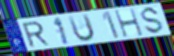1: (52, 16, 72, 45), (102, 10, 121, 40)
H: (113, 8, 145, 39)
R: (21, 21, 51, 49)
S: (141, 6, 166, 35)
U: (67, 13, 97, 44)
